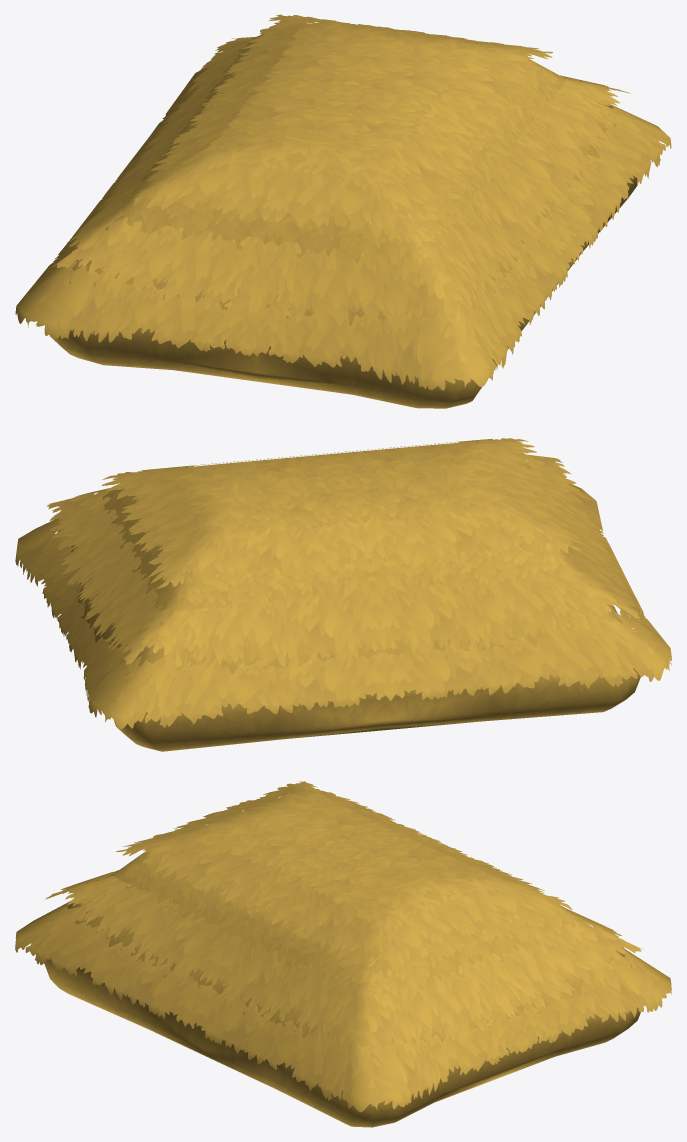
File: Cattac_Straw_Houses_1.fbx
The picture shows the model from 3 angles, top to bottom: view 1: azimuth 30°, elevation 25°; view 2: azimuth 150°, elevation 25°; view 3: azimuth 270°, elevation 25°; orthographic projection. The views are drawn at different scales.
Visible parts, largest first — view 1: BaseHouseRoofCatEar__1_.007; view 2: BaseHouseRoofCatEar__1_.007; view 3: BaseHouseRoofCatEar__1_.007.
Boxes of the visible parts, bbox=[...] form: BaseHouseRoofCatEar__1_.007: bbox=[15, 14, 671, 408]; BaseHouseRoofCatEar__1_.007: bbox=[15, 438, 671, 751]; BaseHouseRoofCatEar__1_.007: bbox=[15, 781, 671, 1127].
Bounding box in the file's own units: 48.92 × 13.02 × 48.15.
